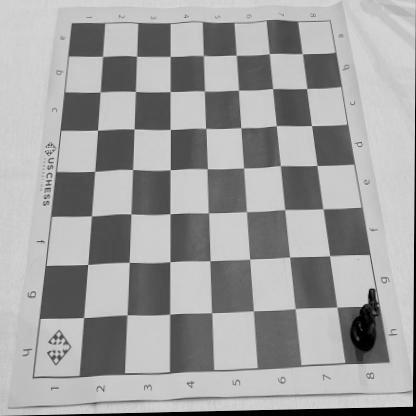black-knight: (350, 290, 379, 354)
